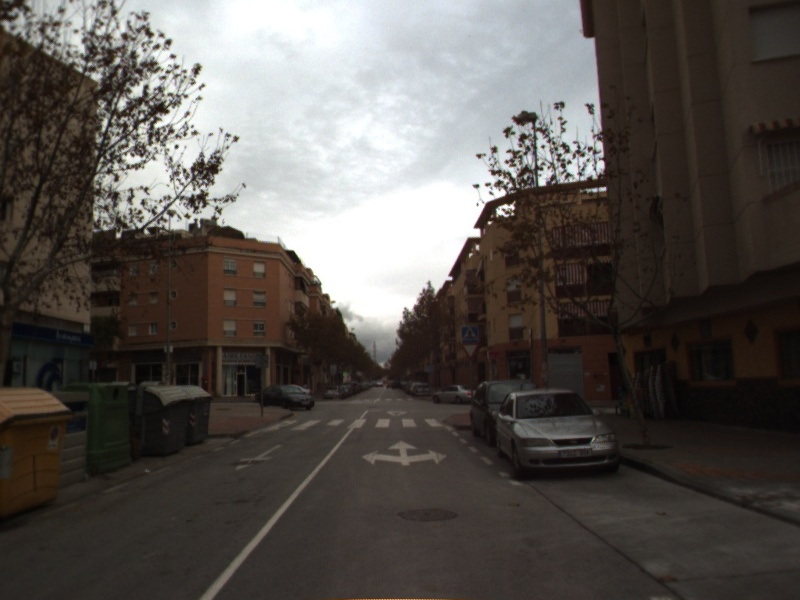STRAIGHT_LEFT_RIGHT: (360, 438, 449, 467)
